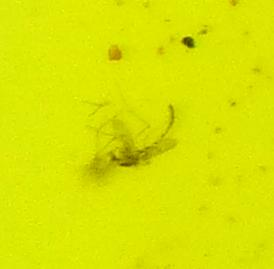Nematocera: (100, 100, 174, 169)
